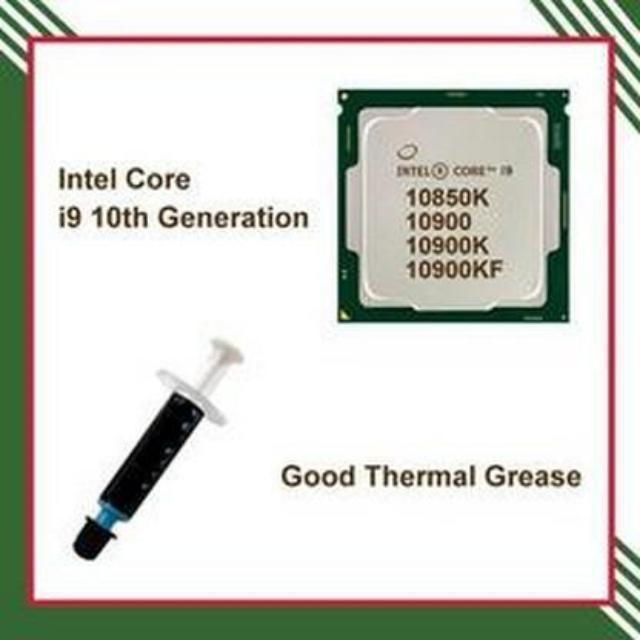CPU: (325, 86, 577, 320)
